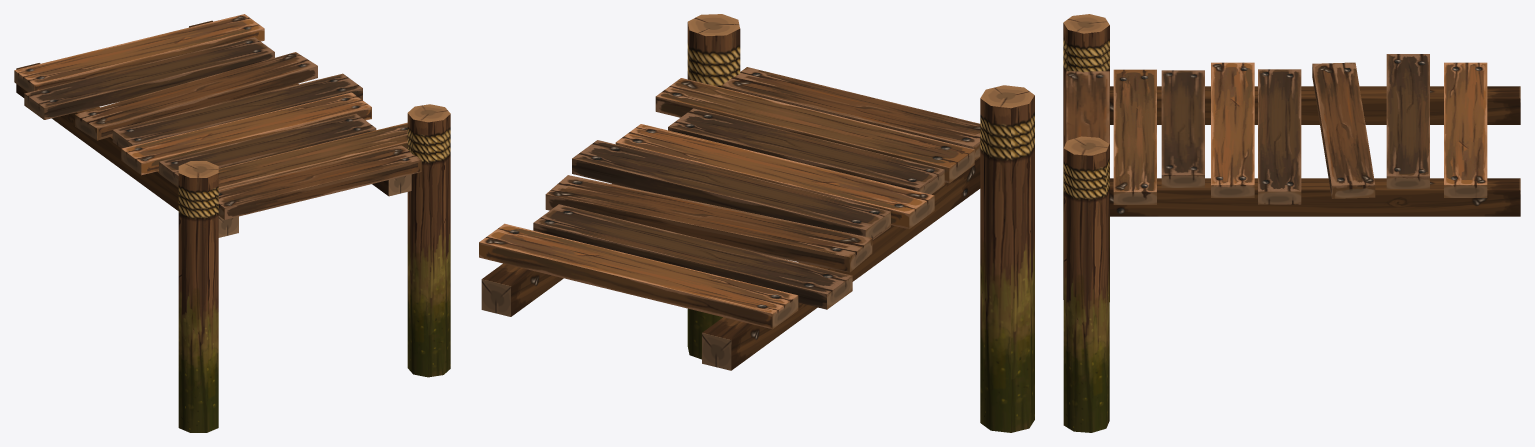
Rendered from pier_middle_C.fbx.
3 renders of one model, left to right at view 1: azimuth 30°, elevation 25°; view 2: azimuth 150°, elevation 25°; view 3: azimuth 270°, elevation 25°, orthographic. The views are drawn at different scales.
Visible parts, largest first — view 1: pier_middle_C; view 2: pier_middle_C; view 3: pier_middle_C.
Part boxes in pixels (box(x1,y1,x2,y2)): pier_middle_C: box(14, 14, 450, 432); pier_middle_C: box(479, 14, 1034, 432); pier_middle_C: box(1063, 14, 1520, 432).
Bounding box in the file's own units: 232 × 211 × 316.
